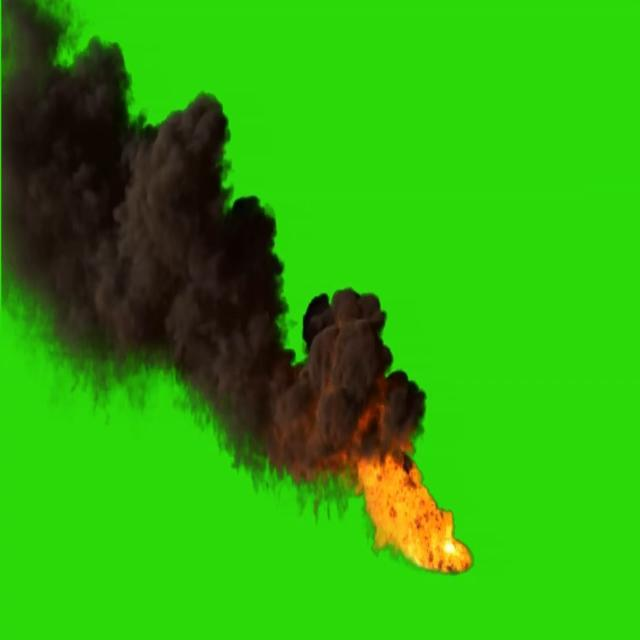Fire: (360, 466, 476, 574)
Smoke: (12, 14, 386, 464)
